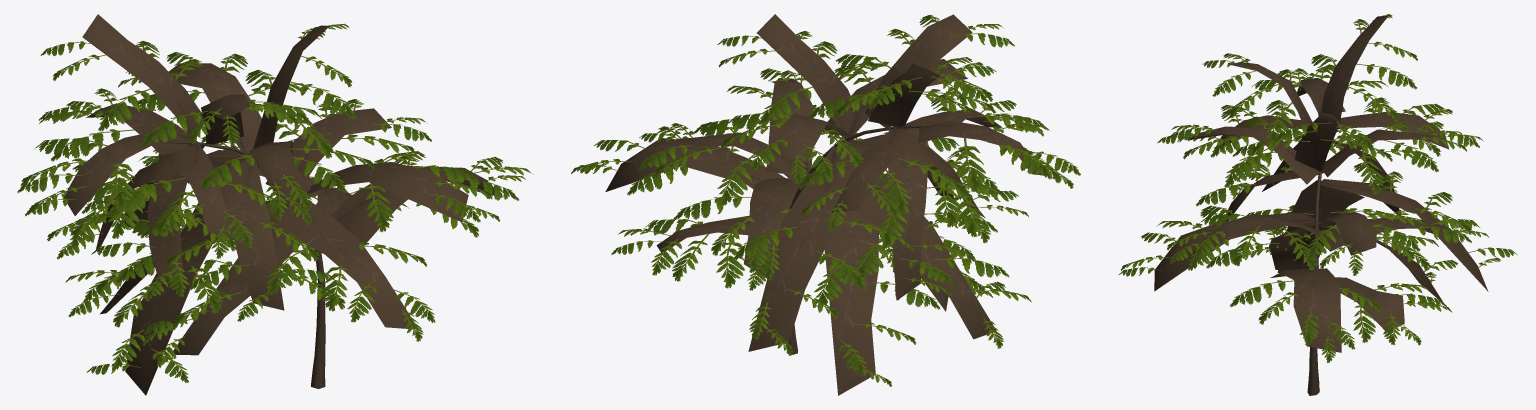
The model's file is forest_Bush1.fbx.
The picture shows the model from 3 angles, left to right: view 1: azimuth 30°, elevation 25°; view 2: azimuth 150°, elevation 25°; view 3: azimuth 270°, elevation 25°; orthographic projection. The views are drawn at different scales.
Parts seen in each view (by area): view 1: StaticMeshActor_22_StaticMeshComponent0; view 2: StaticMeshActor_22_StaticMeshComponent0; view 3: StaticMeshActor_22_StaticMeshComponent0.
Boxes of the visible parts, left/top/right/bottom form: StaticMeshActor_22_StaticMeshComponent0: left=17, top=14, right=533, bottom=395; StaticMeshActor_22_StaticMeshComponent0: left=571, top=14, right=1080, bottom=395; StaticMeshActor_22_StaticMeshComponent0: left=1119, top=14, right=1517, bottom=395.
Size of the model in its own units: 5.32 by 3.75 by 4.44.
